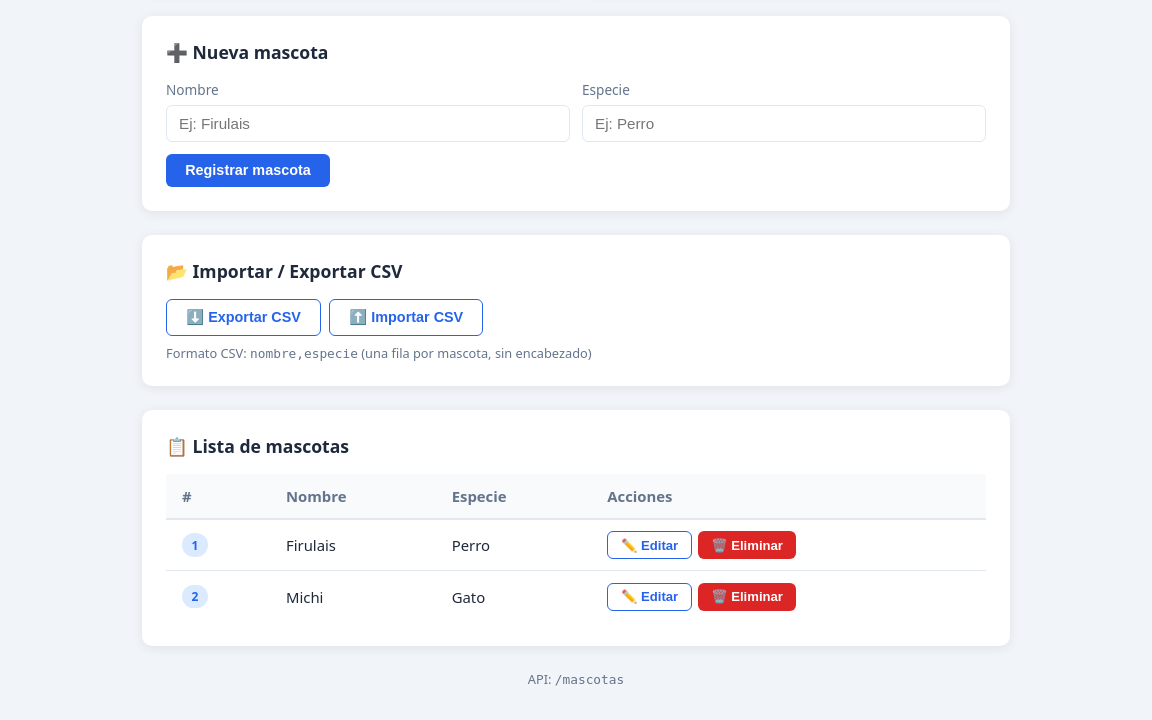
Test: App › cancela la edición al hacer clic en Cancelar
The width and height of the screenshot is (1152, 720).
(page scrolled)
Click the button titled "Editar" in the row of "Firulais": x=650, y=545 [607, 531, 692, 559]
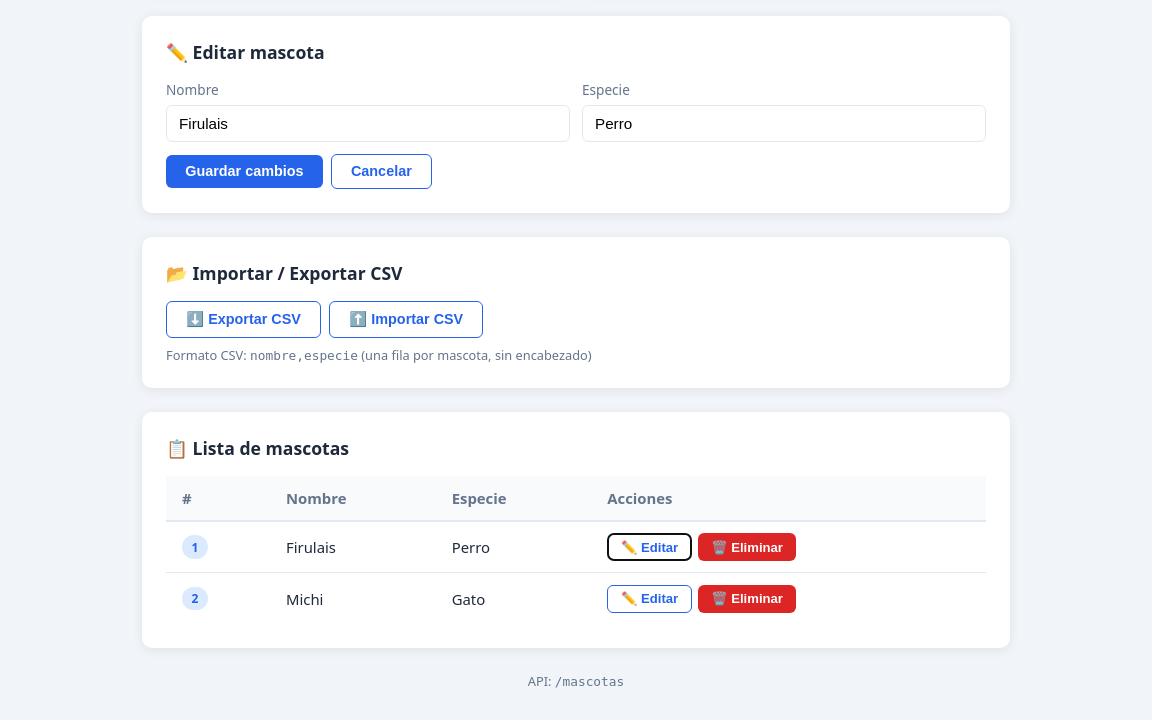
Expected: the text "✏️ Editar mascota" is shown, [166, 40, 325, 64]
Click the button "Cancelar": x=381, y=171 [331, 154, 432, 189]
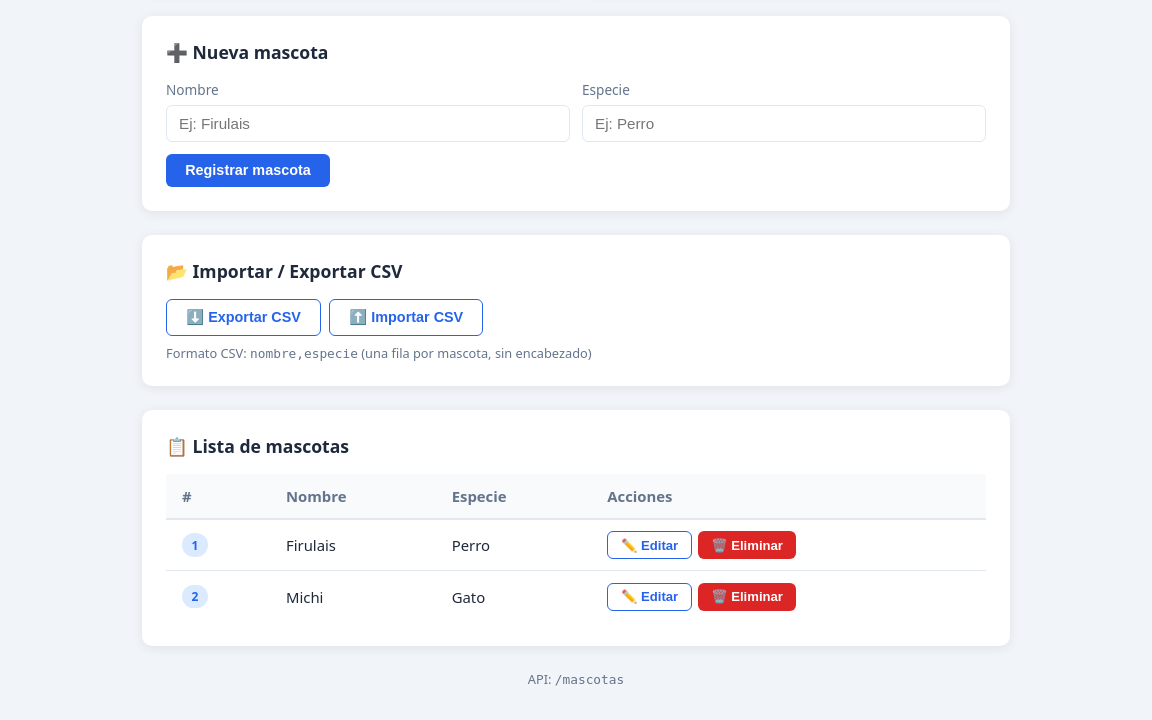
Expected: the text "➕ Nueva mascota" is shown, [166, 40, 328, 64]
